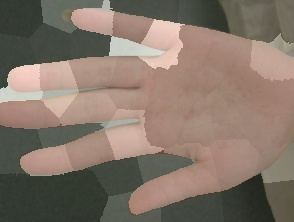SJS-TEN: (150, 32, 294, 166)
